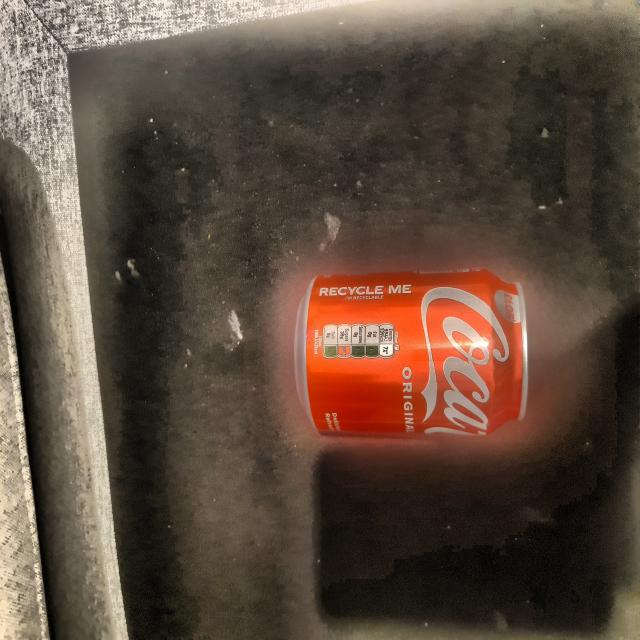coke-can: (300, 266, 535, 446)
